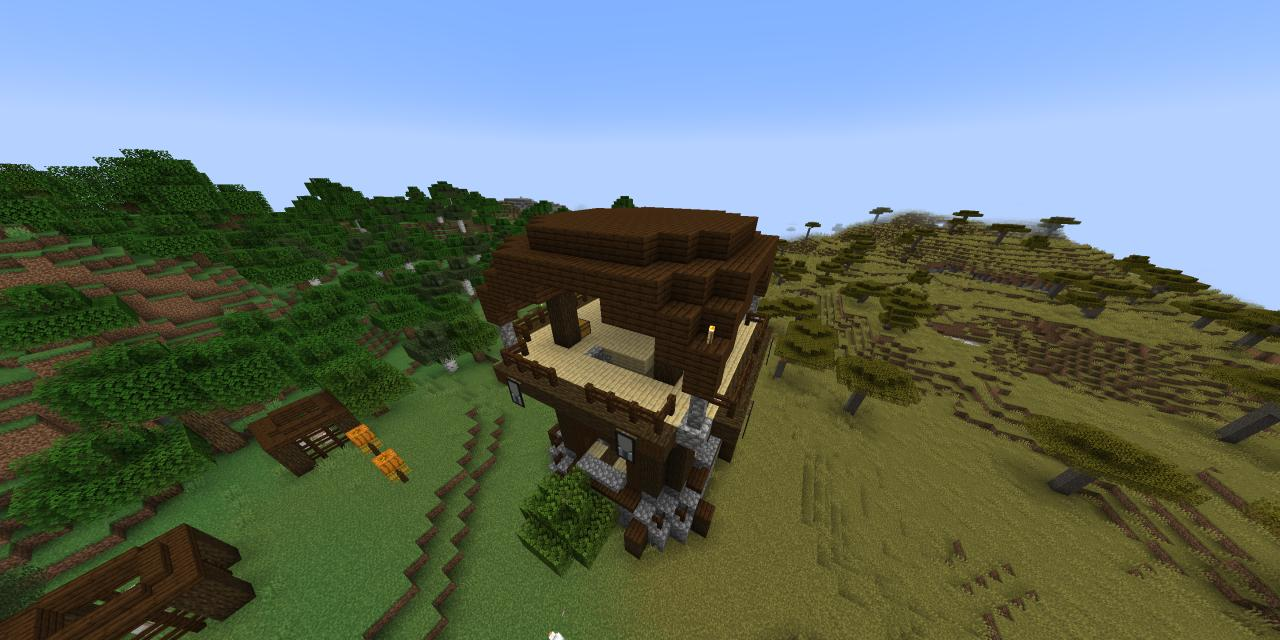pillager outpost: (468, 193, 801, 577)
